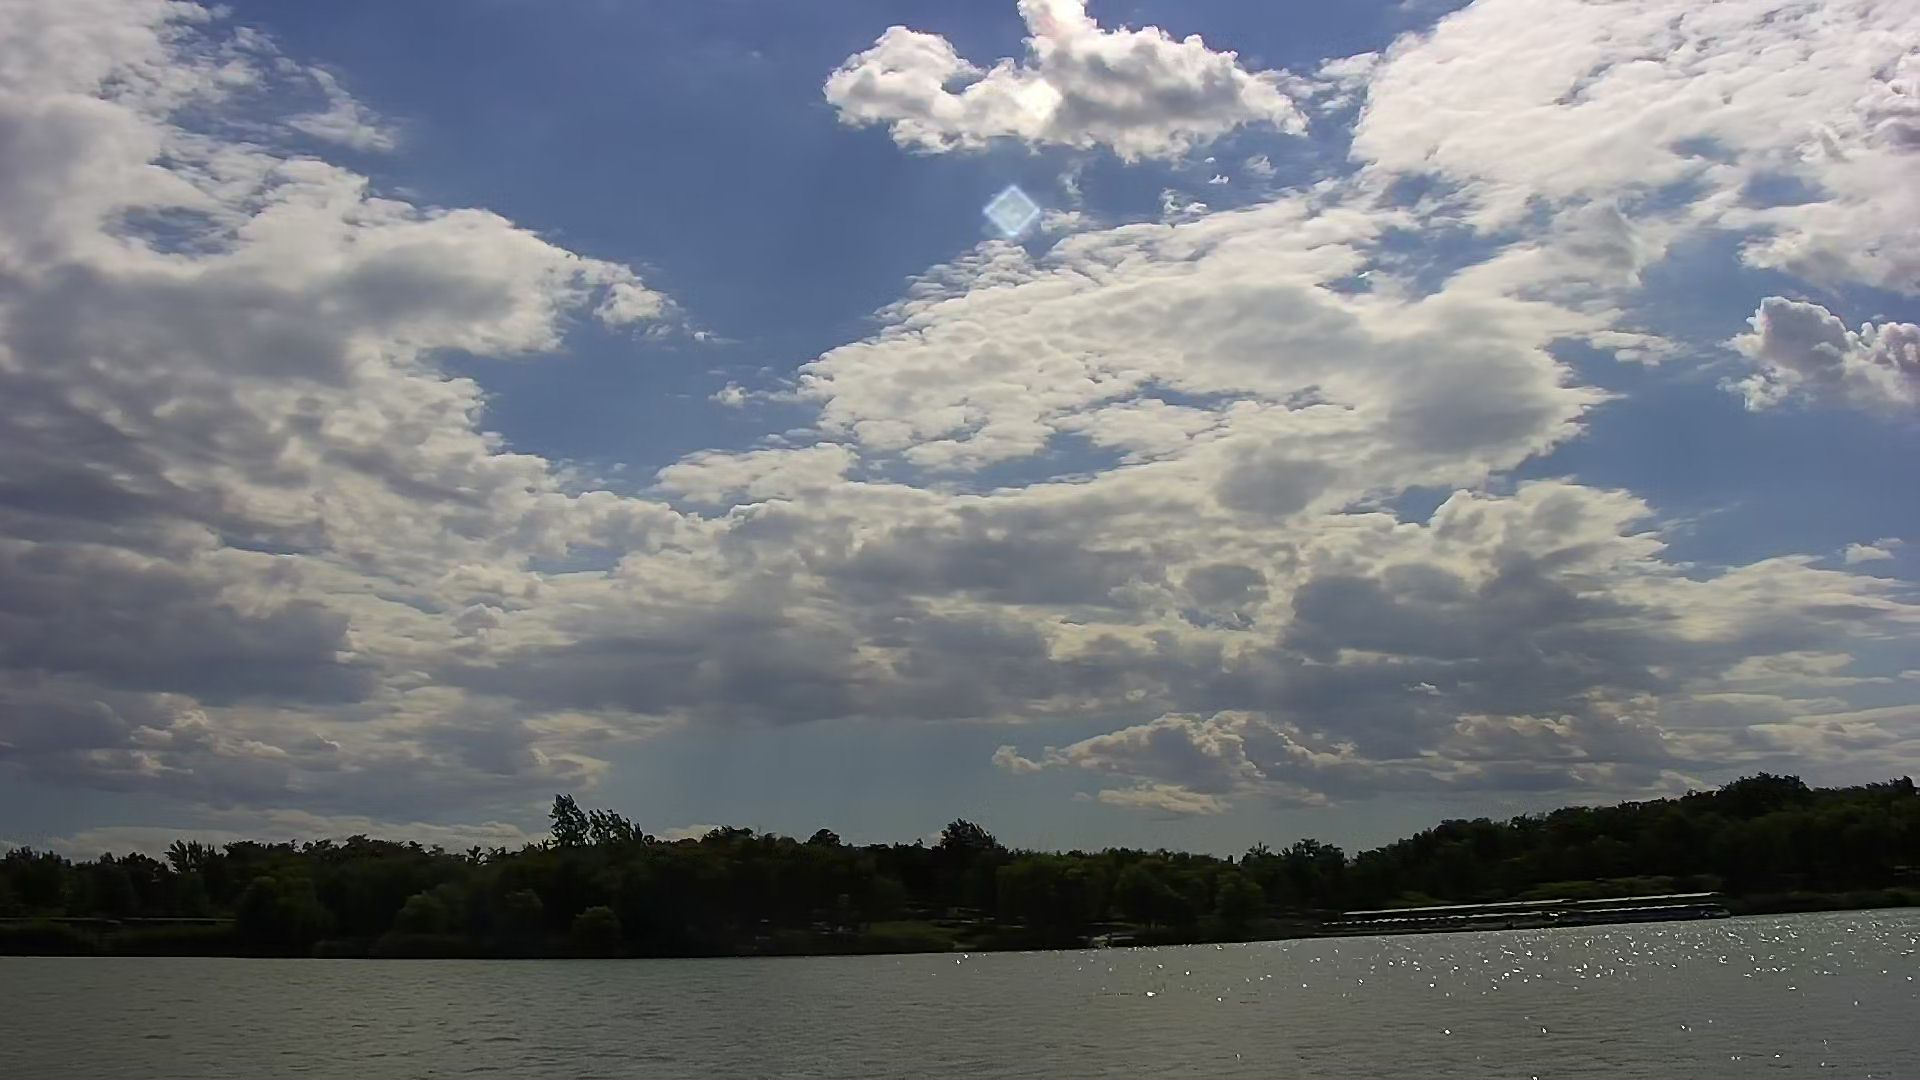harbor: (1328, 887, 1762, 934)
